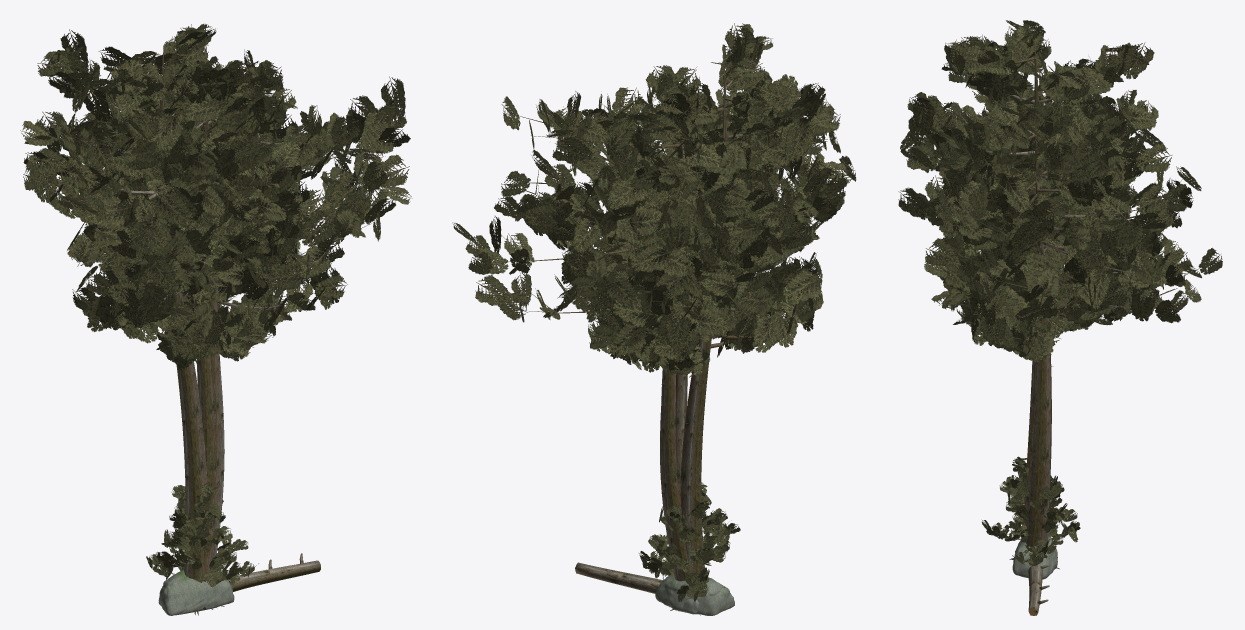
Rendered from forest-kit.glb.
3 views of the same model, side by side, from view 1: azimuth 30°, elevation 25°; view 2: azimuth 150°, elevation 25°; view 3: azimuth 270°, elevation 25° (orthographic). The views are drawn at different scales.
Visible parts, largest first — view 1: pine_b_needles, pine_a_needles, pine_c_needles, pine_sapling_needles, pine_b_wood, pine_c_wood, rock_a_stone, pine_a_wood, fallen_log_bark; view 2: pine_b_needles, pine_a_needles, pine_c_needles, pine_sapling_needles, pine_b_wood, pine_c_wood, rock_a_stone, pine_a_wood, fallen_log_bark; view 3: pine_c_needles, pine_a_needles, pine_b_needles, pine_c_wood, pine_sapling_needles, pine_b_wood, rock_a_stone, pine_a_wood, fallen_log_bark.
Boxes of the visible parts, x1,y1,x2,y2 form: pine_b_needles: [20, 24, 292, 368]; pine_a_needles: [67, 49, 318, 361]; pine_c_needles: [67, 69, 412, 325]; pine_sapling_needles: [146, 485, 258, 587]; pine_b_wood: [34, 46, 288, 615]; pine_c_wood: [87, 95, 403, 609]; rock_a_stone: [158, 569, 234, 615]; pine_a_wood: [82, 85, 297, 614]; fallen_log_bark: [228, 553, 320, 591]; pine_b_needles: [594, 23, 856, 377]; pine_a_needles: [547, 67, 821, 372]; pine_c_needles: [452, 87, 751, 358]; pine_sapling_needles: [639, 482, 740, 601]; pine_b_wood: [624, 41, 848, 610]; pine_c_wood: [460, 103, 742, 615]; rock_a_stone: [655, 575, 734, 615]; pine_a_wood: [552, 79, 779, 614]; fallen_log_bark: [575, 562, 662, 593]; pine_c_needles: [924, 126, 1222, 345]; pine_a_needles: [925, 71, 1182, 362]; pine_b_needles: [898, 20, 1158, 344]; pine_c_wood: [940, 136, 1208, 547]; pine_sapling_needles: [982, 456, 1080, 566]; pine_b_wood: [915, 31, 1149, 568]; rock_a_stone: [1012, 536, 1057, 579]; pine_a_wood: [941, 97, 1173, 558]; fallen_log_bark: [1028, 564, 1049, 615].
Size of the model in its own units: 15.97 by 24.78 by 14.51.
6 materials, 6 textured.
